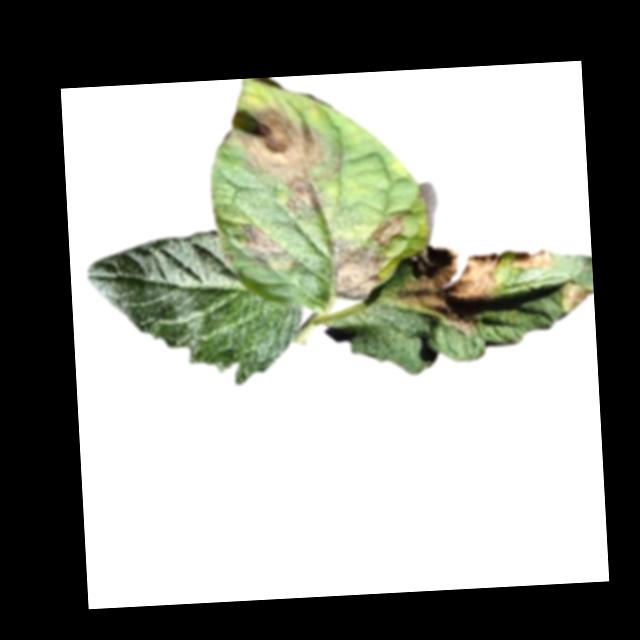Late_blight: (220, 103, 343, 216), (389, 242, 503, 339), (327, 231, 390, 302), (237, 219, 300, 277), (559, 277, 594, 316), (508, 244, 555, 273), (371, 213, 407, 246)
